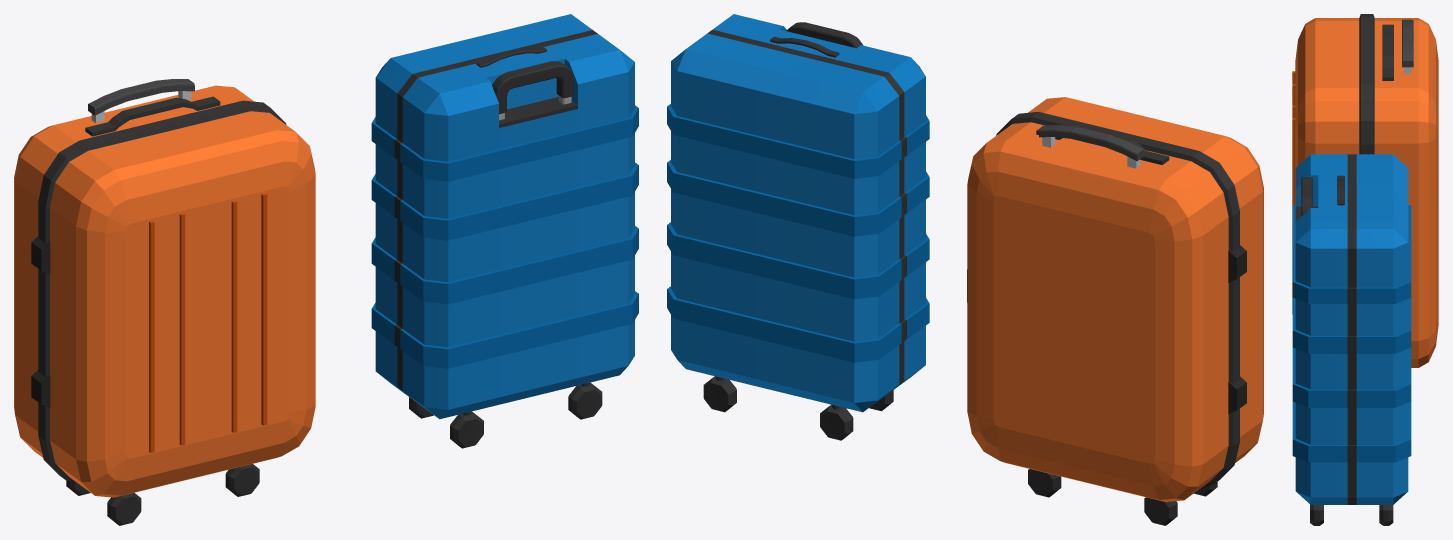
The model's file is Suitcases.fbx.
The picture shows the model from 3 angles, left to right: view 1: azimuth 30°, elevation 25°; view 2: azimuth 150°, elevation 25°; view 3: azimuth 270°, elevation 25°; orthographic projection. The views are drawn at different scales.
Visible parts, largest first — view 1: Suitcase_2, Suitcase_1; view 2: Suitcase_2, Suitcase_1; view 3: Suitcase_1, Suitcase_2.
Boxes of the visible parts, box(x1,y1,x2,y2) form: Suitcase_2: box(14, 79, 315, 525); Suitcase_1: box(371, 14, 638, 448); Suitcase_2: box(967, 97, 1263, 525); Suitcase_1: box(667, 14, 929, 440); Suitcase_1: box(1292, 154, 1411, 525); Suitcase_2: box(1292, 14, 1438, 367).
Bounding box in the file's own units: 142 × 92.1 × 37.35.
